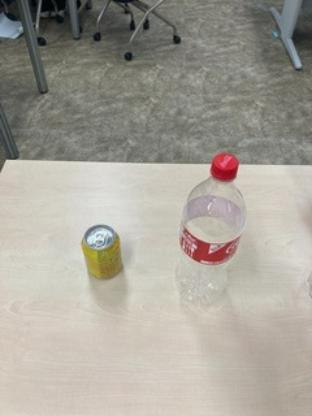Can: (79, 218, 125, 282)
Plastic Bottle: (174, 146, 248, 322)
